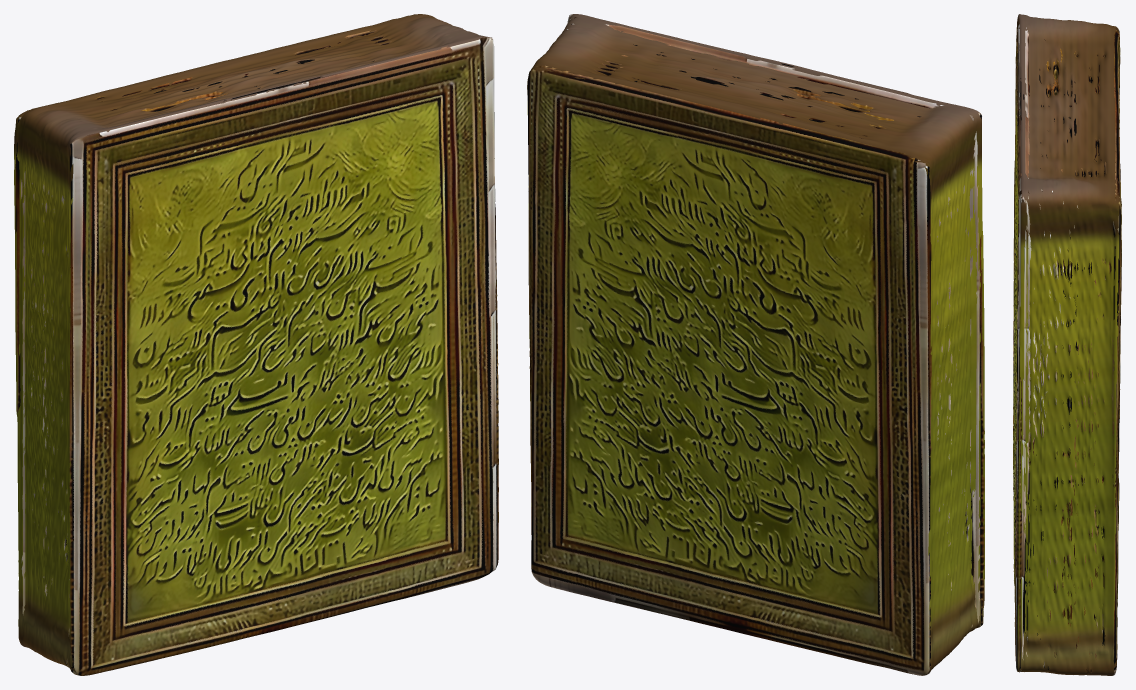
Rendered from kfl-2277.glb.
3 renders of one model, left to right at view 1: azimuth 30°, elevation 25°; view 2: azimuth 150°, elevation 25°; view 3: azimuth 270°, elevation 25°, orthographic. The views are drawn at different scales.
Parts seen in each view (by area): view 1: kfl-2277; view 2: kfl-2277; view 3: kfl-2277.
Part boxes in pixels (<box>): kfl-2277: <box>14,14,498,675</box>; kfl-2277: <box>527,14,984,675</box>; kfl-2277: <box>1013,14,1121,675</box>.
Bounding box in the file's own units: 0.814 × 0.9969 × 0.1998.
Materials: 4 (4 with a texture image).
